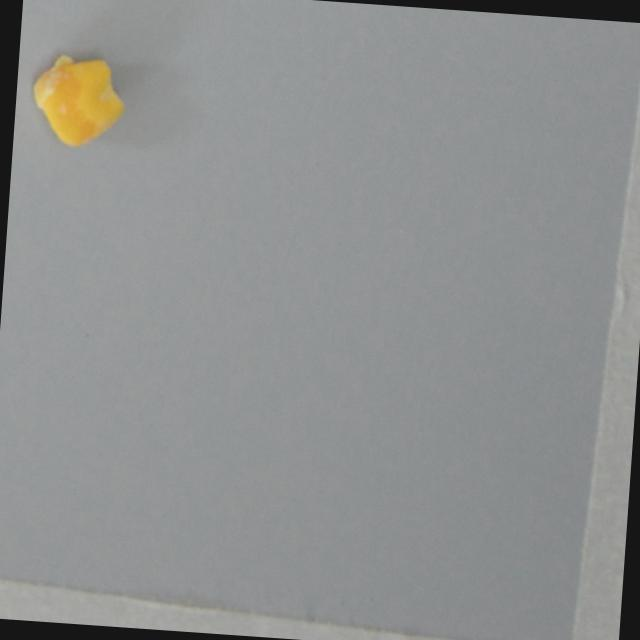pelicula: (29, 50, 129, 150)
